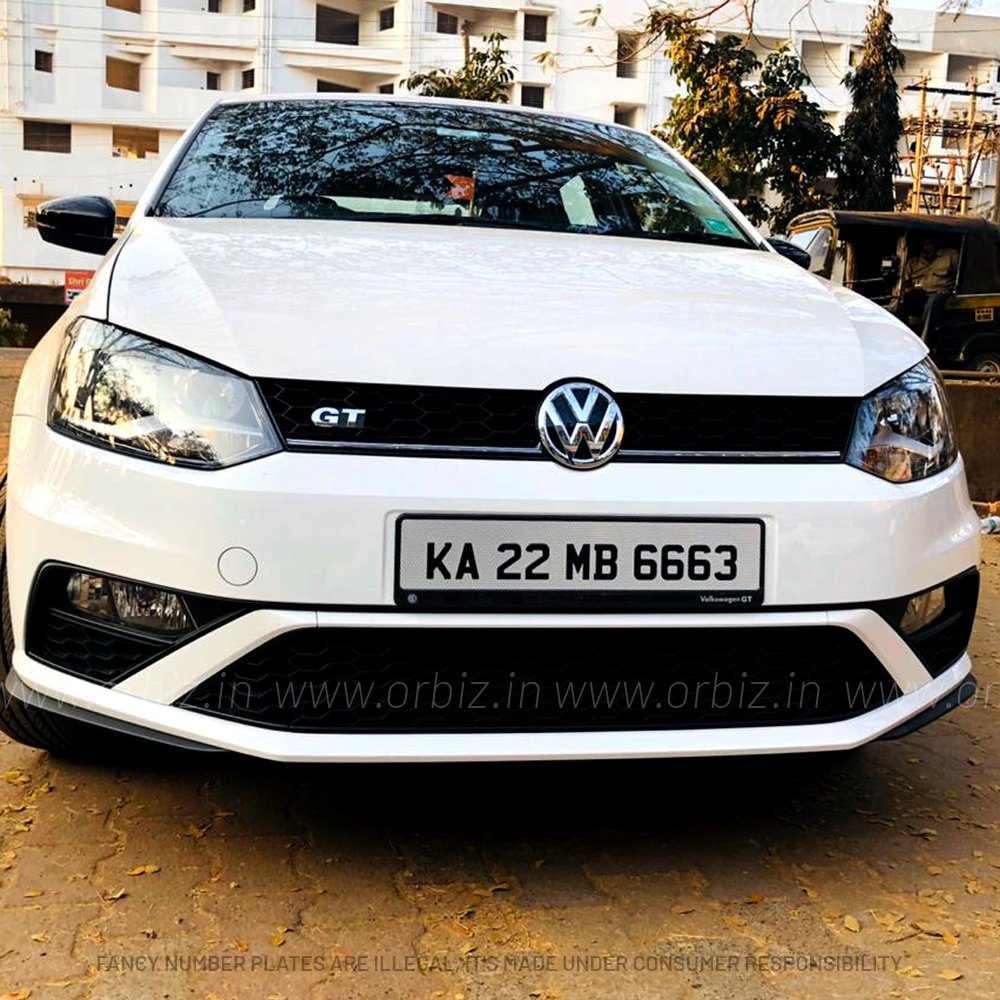number_plates: (404, 515, 753, 591)
